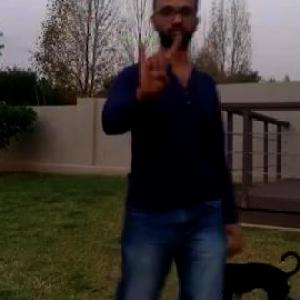takeoff-hand: (126, 24, 184, 98)
